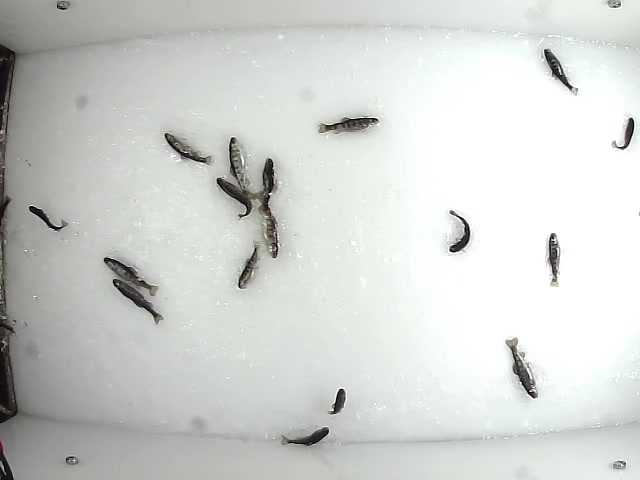fish: (226, 135, 270, 198), (110, 278, 164, 327), (102, 256, 161, 299), (504, 336, 538, 400), (163, 130, 214, 168), (542, 47, 580, 97), (256, 191, 280, 261), (217, 177, 253, 218), (234, 239, 261, 291), (315, 116, 378, 136), (27, 204, 70, 232), (446, 208, 471, 256), (544, 232, 561, 290), (610, 116, 636, 152), (279, 428, 328, 447), (257, 157, 276, 202), (325, 385, 345, 416)
